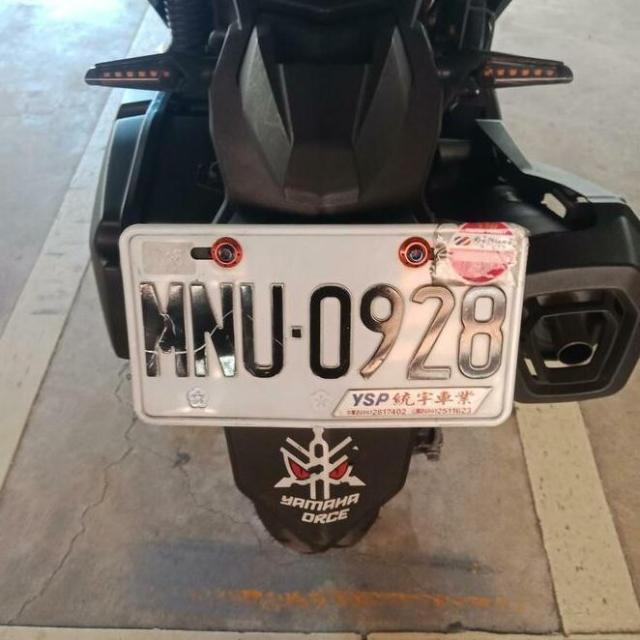W: (116, 204, 533, 442)
